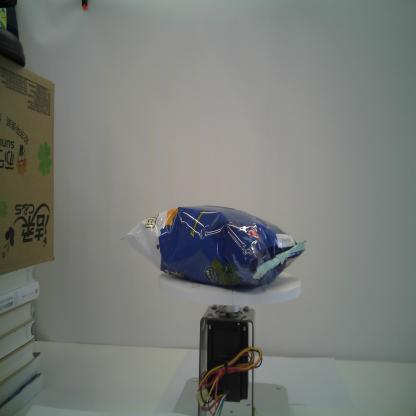Puffed Food: (119, 204, 307, 289)
